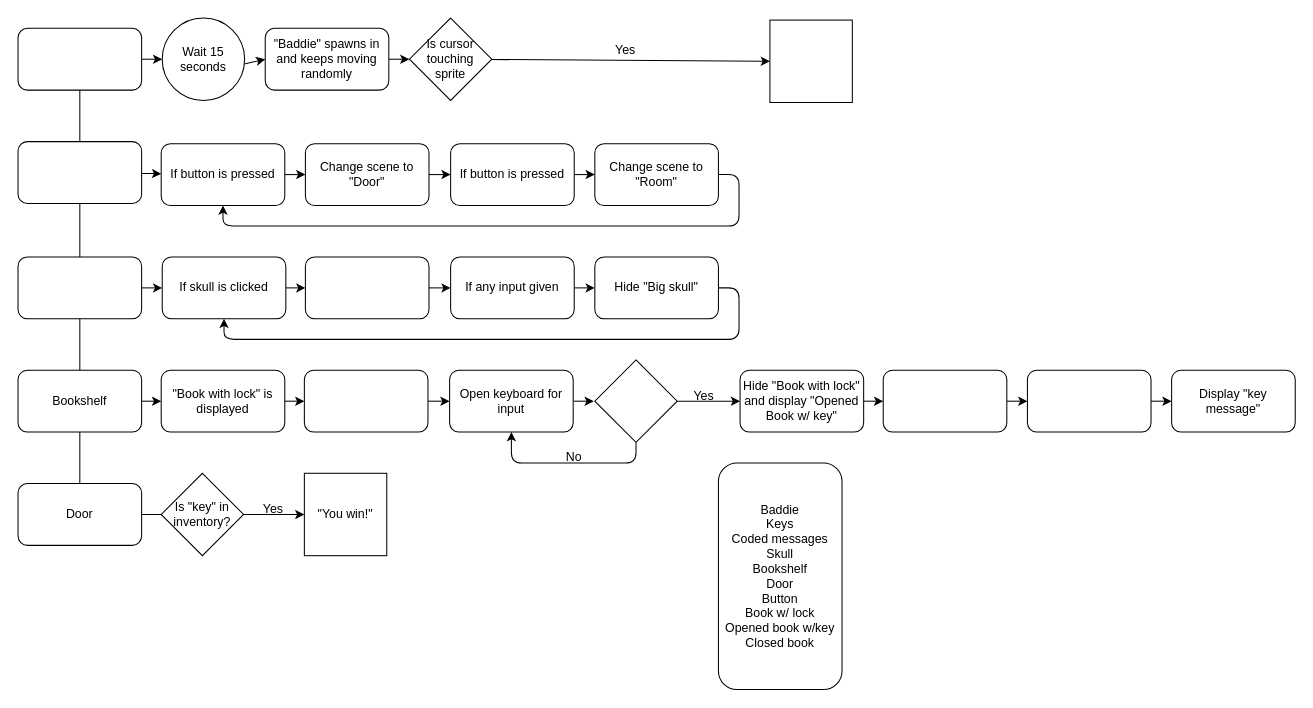
This 1313x708 diagram has some shape labels left out. The centre of each missing label's shape, as x and y in pixels:
Button: [79,172]
Click key: [944,400]
Click lock: [365,400]
Display "Big skull": [366,287]
Game Over!: [810,60]
Hide "Opened Book w/ key" and display "key" on screen: [1088,400]
Is input "3": [635,400]
Press start: [79,58]
Skull: [79,287]
